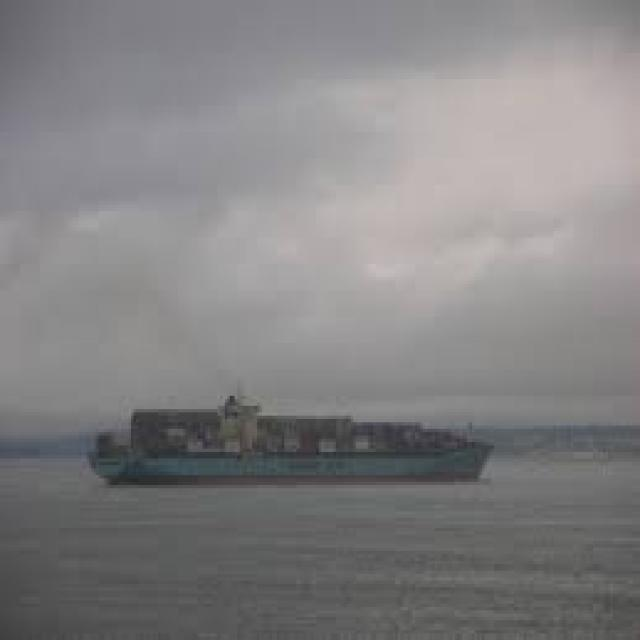cargoship: (89, 383, 488, 483)
